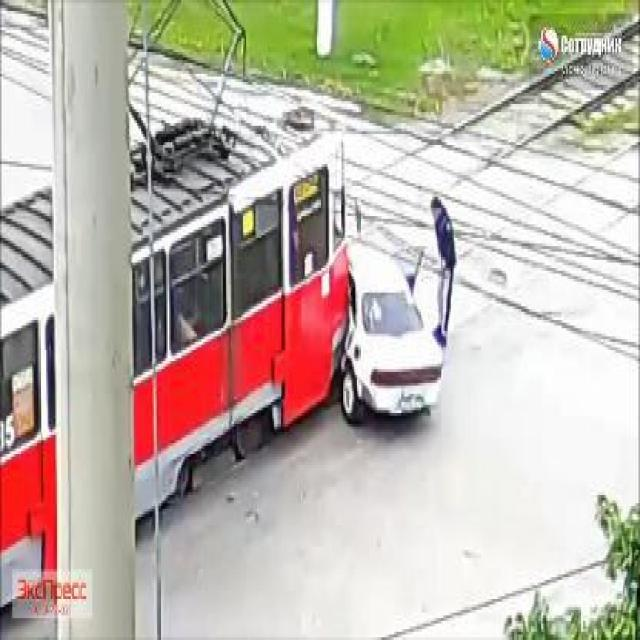accident: (0, 110, 443, 512)
